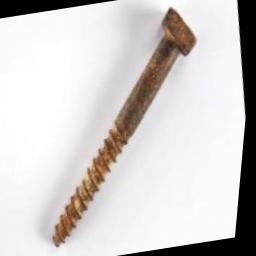Corroded-Bolt: (56, 7, 198, 247)
